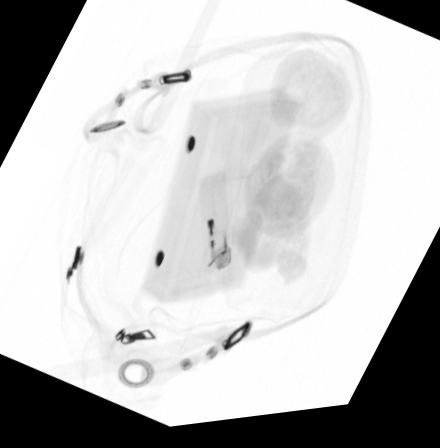Lighter: (201, 175, 233, 278)
